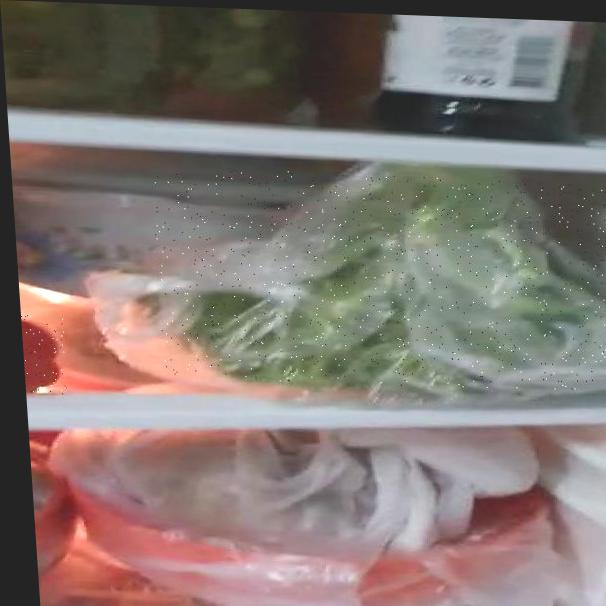lettuce: (150, 166, 606, 394)
tomato: (21, 315, 67, 395)
